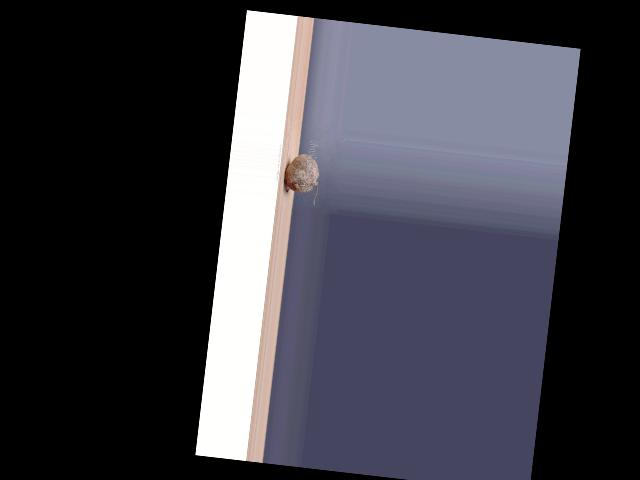beet: (282, 152, 321, 206)
